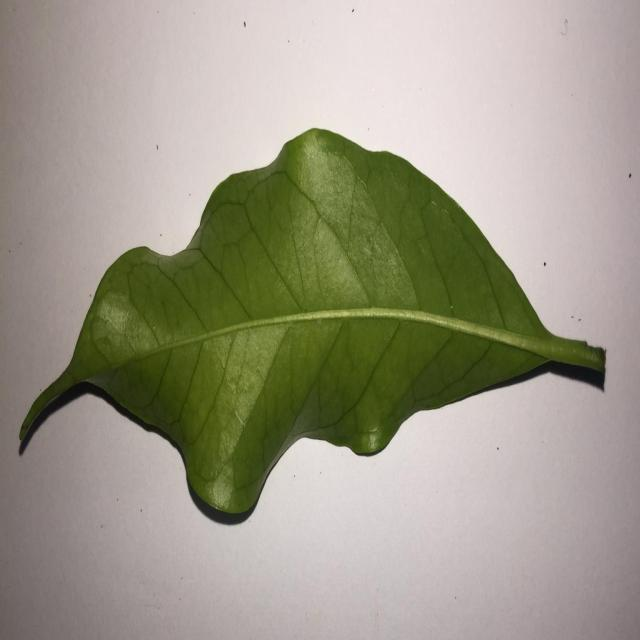nodisease: (18, 128, 605, 523)
